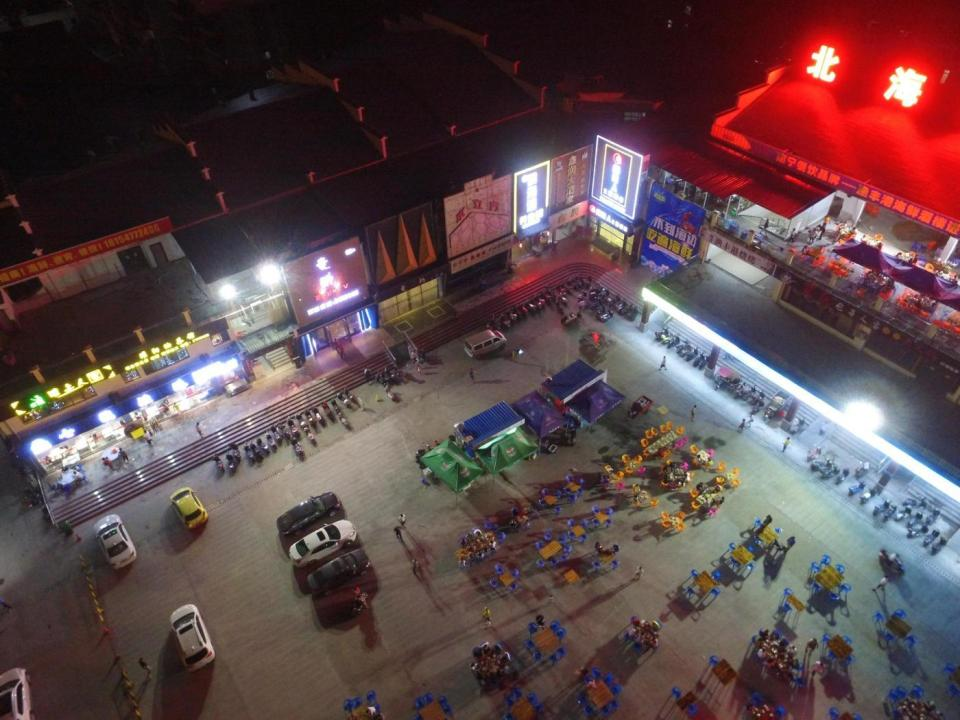car: (288, 519, 357, 566), (170, 604, 216, 674), (305, 549, 371, 595), (276, 492, 341, 537), (93, 514, 137, 570), (169, 486, 208, 531), (0, 666, 32, 720)
van: (462, 330, 506, 358)
